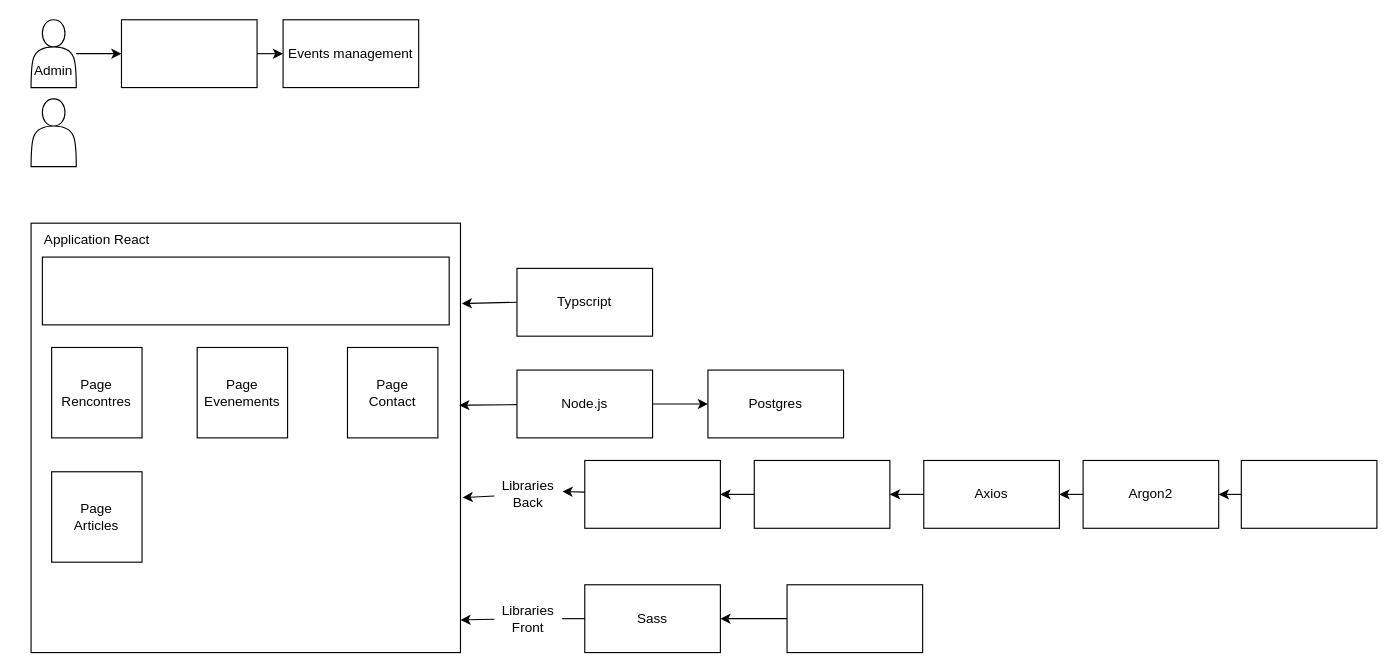
Some shapes in this 1397 by 672 pixel diagram are drawn without their labels. Here are the shapes that lost their labels. From the top down, the centre of each, then its label:
At [188,53]: "Users management".
At [245,290]: "Accueil mettre les infos à propos dans la page accueil".
At [652,493]: "Express.js express-session".
At [821,493]: "vite".
At [1308,493]: "Sanitize".
At [854,618]: "Tarte aux citron (RGPD)".
